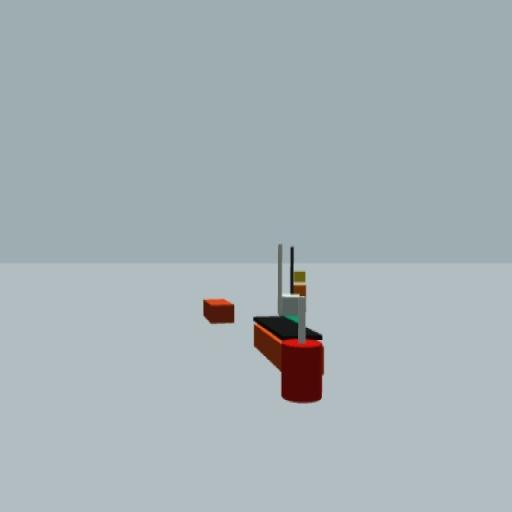debris_container: (202, 296, 236, 327)
floating_obstacle: (280, 295, 324, 405)
